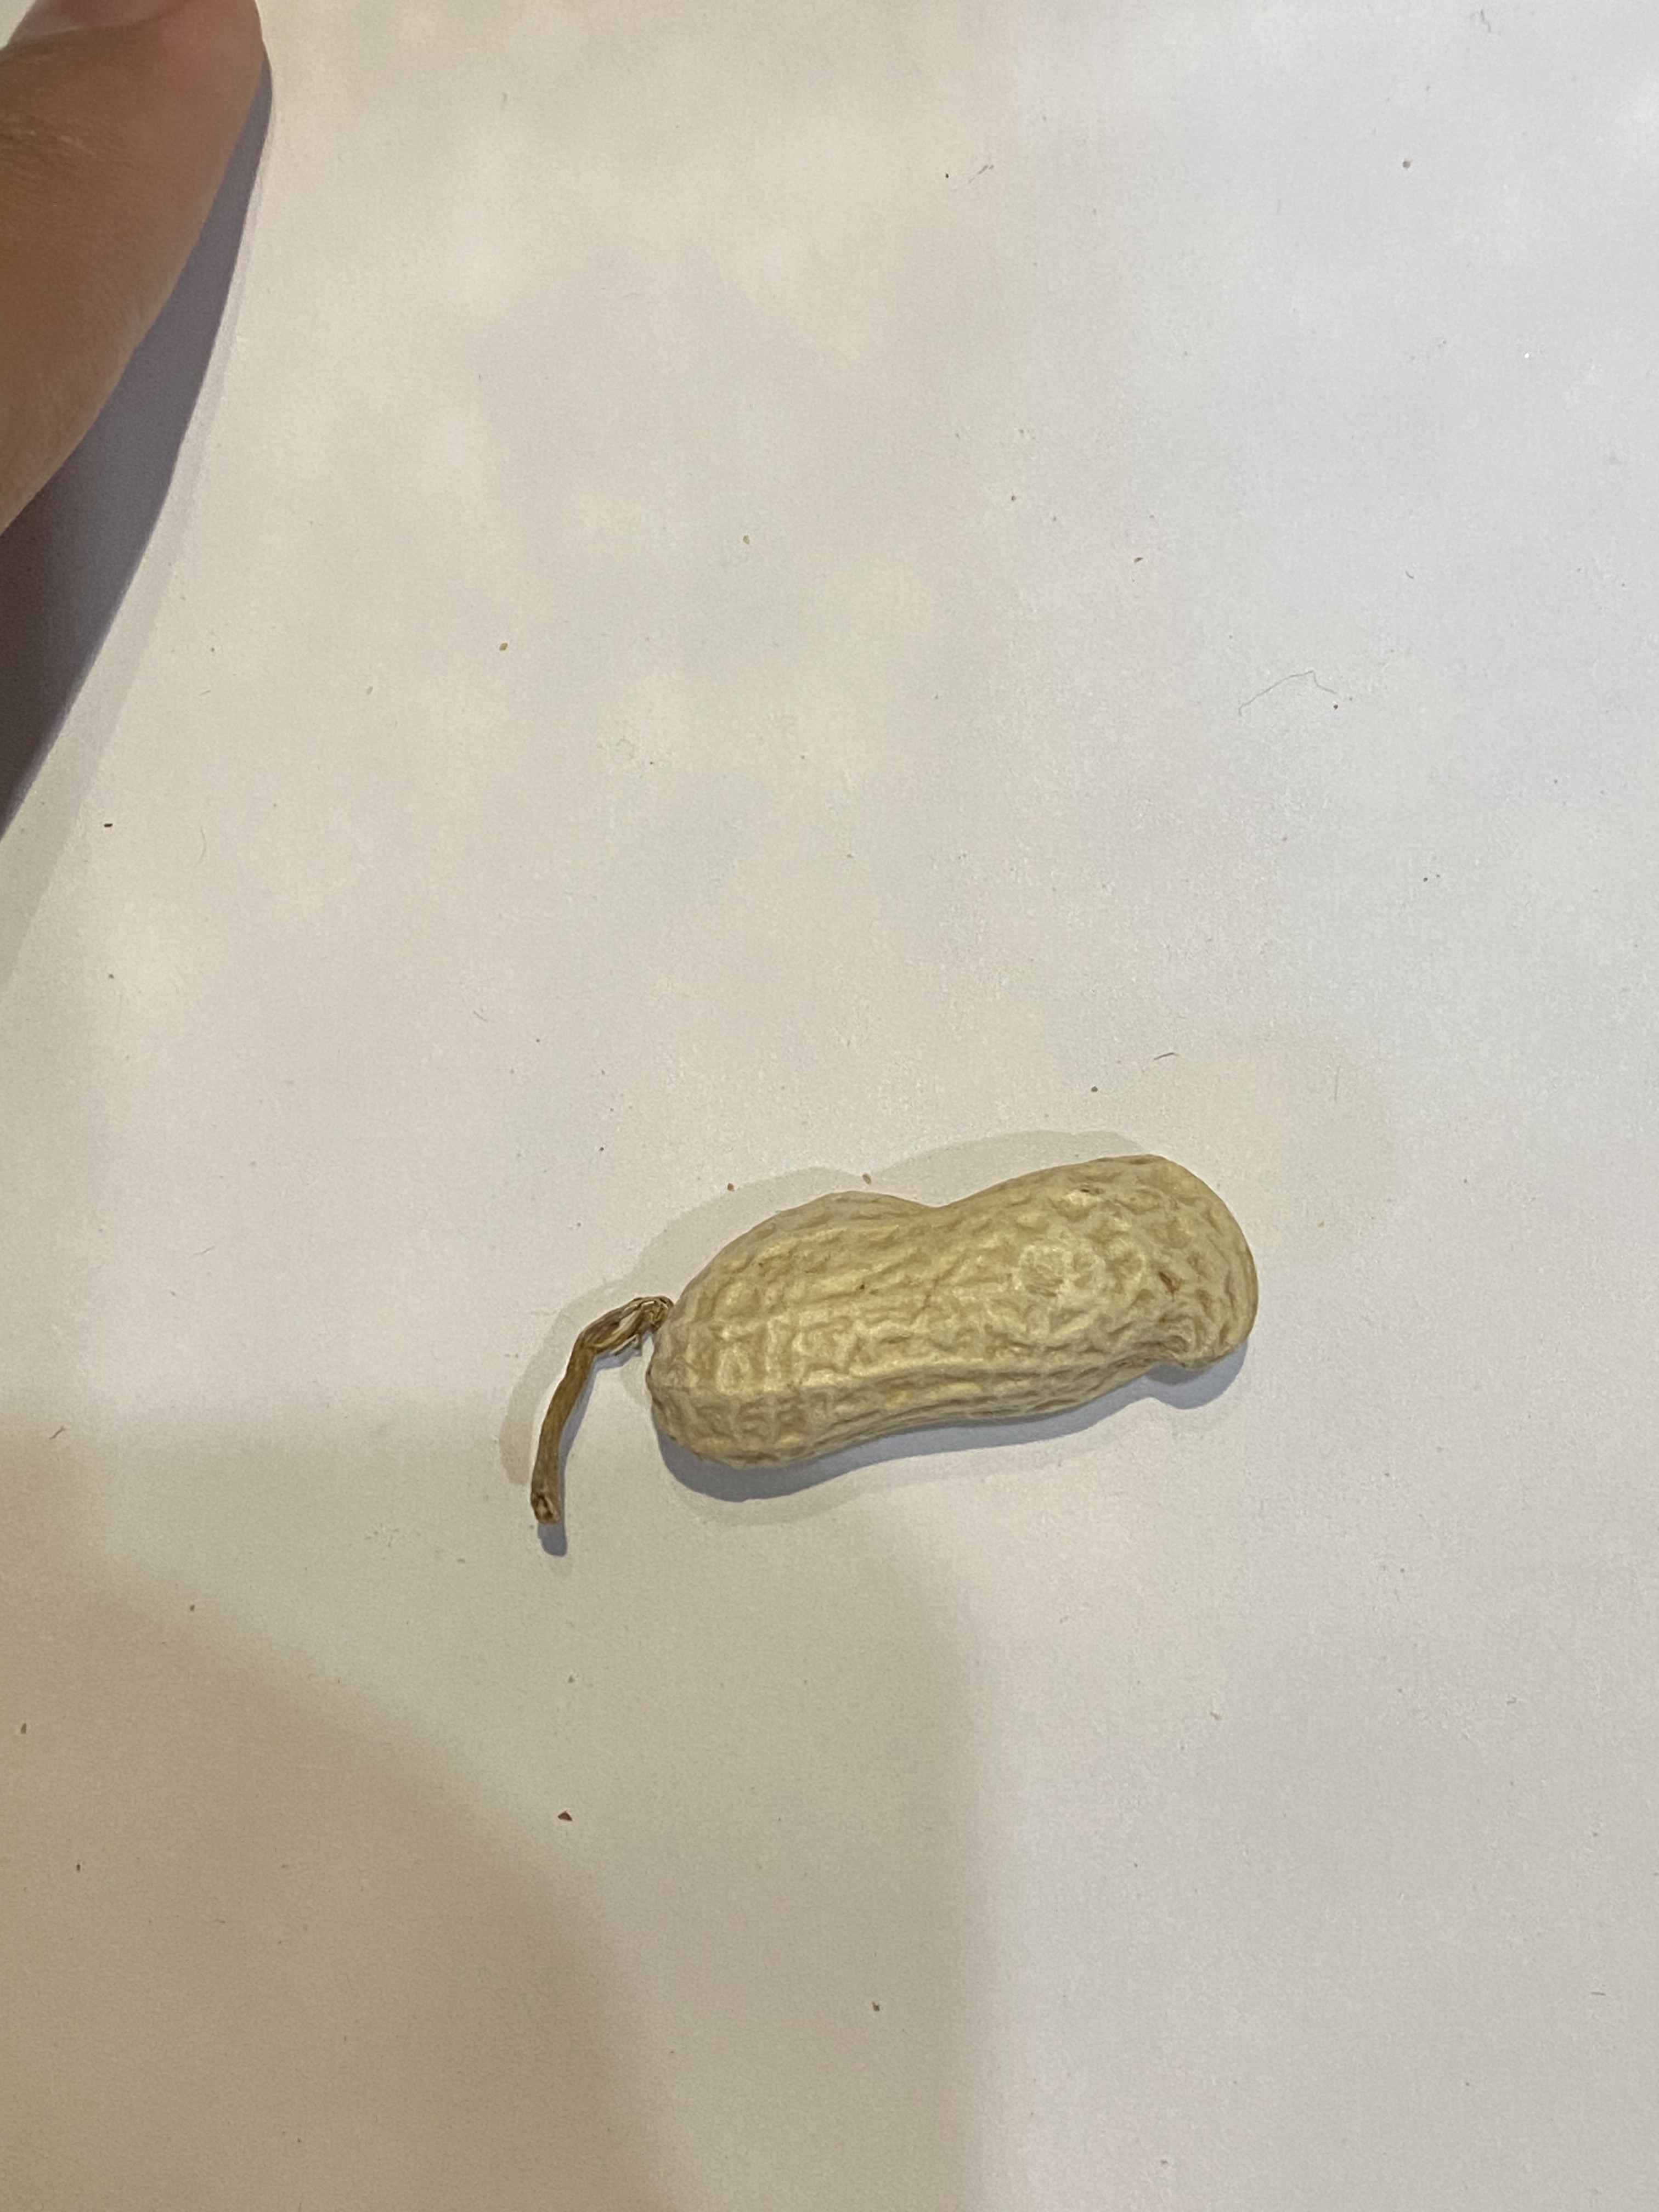kacang2: (647, 1130, 1274, 1493)
